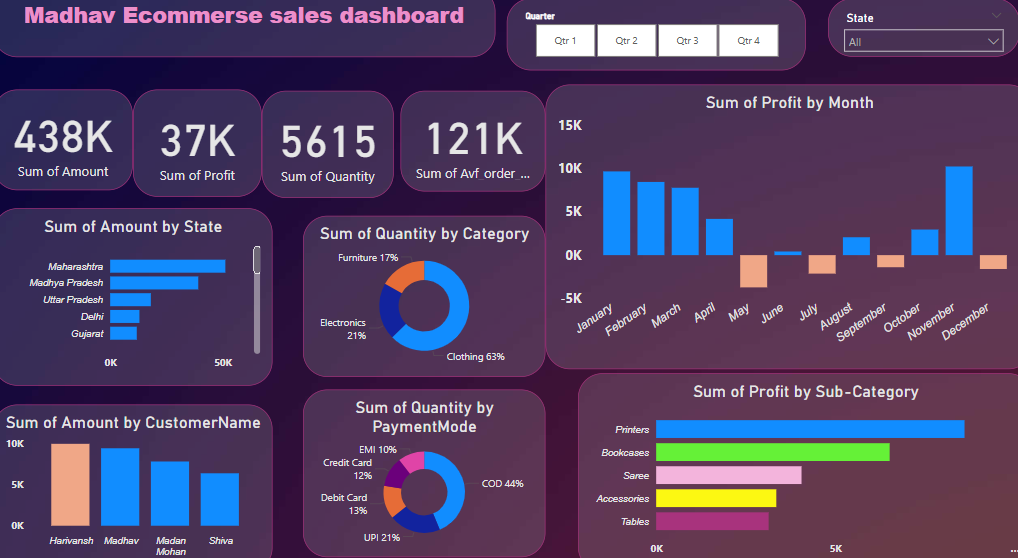

The page's visual inventory and layout, read from the dashboard file:
{"tool":"powerbi","page":{"name":"Page 1","canvas":[1280,720],"ordinal":0},"visuals":[{"type":"columnChart","fields":{"Category":["Orders.Order Date.Variation.Date Hierarchy.Month"],"Y":["Details.Profit"]},"box":[680,120,600,350],"z":0},{"type":"textbox","box":[0,0,618,86],"z":1000},{"type":"barChart","fields":{"Category":["Details.Sub-Category"],"Y":["Details.Profit"]},"box":[720,476,560,244],"z":2000},{"type":"donutChart","fields":{"Category":["Details.Category"],"Y":["Details.Quantity"]},"box":[382,282,298,198],"z":2001},{"type":"donutChart","fields":{"Y":["Details.Quantity"],"Category":["Details.PaymentMode"]},"box":[382,496,298,206],"z":2002},{"type":"card","fields":{"Values":["Details.Amount"]},"box":[0,126,172,124],"z":2003},{"type":"card","fields":{"Values":["Details.Profit"]},"box":[172,126,158,132],"z":2004},{"type":"card","fields":{"Values":["Details.Quantity"]},"box":[330,128,162,132],"z":2005},{"type":"card","fields":{"Values":["Details.Avf_order_value"]},"box":[502,128,178,124],"z":2006},{"type":"barChart","fields":{"Category":["Orders.State"],"Y":["Details.Amount"]},"box":[0,272,344,218],"z":2007},{"type":"columnChart","fields":{"Category":["Orders.CustomerName"],"Y":["Details.Amount"]},"box":[0,514,344,206],"z":2008},{"type":"slicer","fields":{"Values":["Orders.Order Date.Variation.Date Hierarchy.Quarter"]},"box":[632,14,368,89],"z":2009},{"type":"slicer","fields":{"Values":["Orders.State"]},"box":[1028,14,236,72],"z":2010}]}

Visuals, with their boxes in screenshot pixels (x1, y1, x2, y2), scaled from the page's 1280x720 canvas onto the 1018x558 screenshot:
columnChart - Orders.Order Date.Variation.Date Hierarchy.Month x Details.Profit: box=[541, 93, 1017, 364]
textbox: box=[0, 0, 492, 67]
barChart - Details.Sub-Category x Details.Profit: box=[573, 369, 1017, 557]
donutChart - Details.Category x Details.Quantity: box=[304, 219, 541, 372]
donutChart - Details.Quantity x Details.PaymentMode: box=[304, 384, 541, 544]
card - Details.Amount: box=[0, 98, 137, 194]
card - Details.Profit: box=[137, 98, 262, 200]
card - Details.Quantity: box=[262, 99, 391, 202]
card - Details.Avf_order_value: box=[399, 99, 541, 195]
barChart - Orders.State x Details.Amount: box=[0, 211, 274, 380]
columnChart - Orders.CustomerName x Details.Amount: box=[0, 398, 274, 557]
slicer - Orders.Order Date.Variation.Date Hierarchy.Quarter: box=[503, 11, 795, 80]
slicer - Orders.State: box=[818, 11, 1005, 67]
